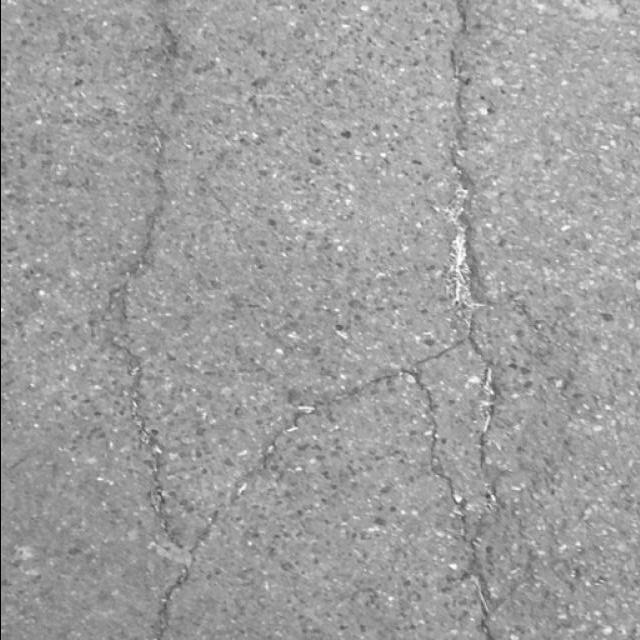SurfaceCrack: (365, 2, 570, 640), (72, 0, 274, 640)
